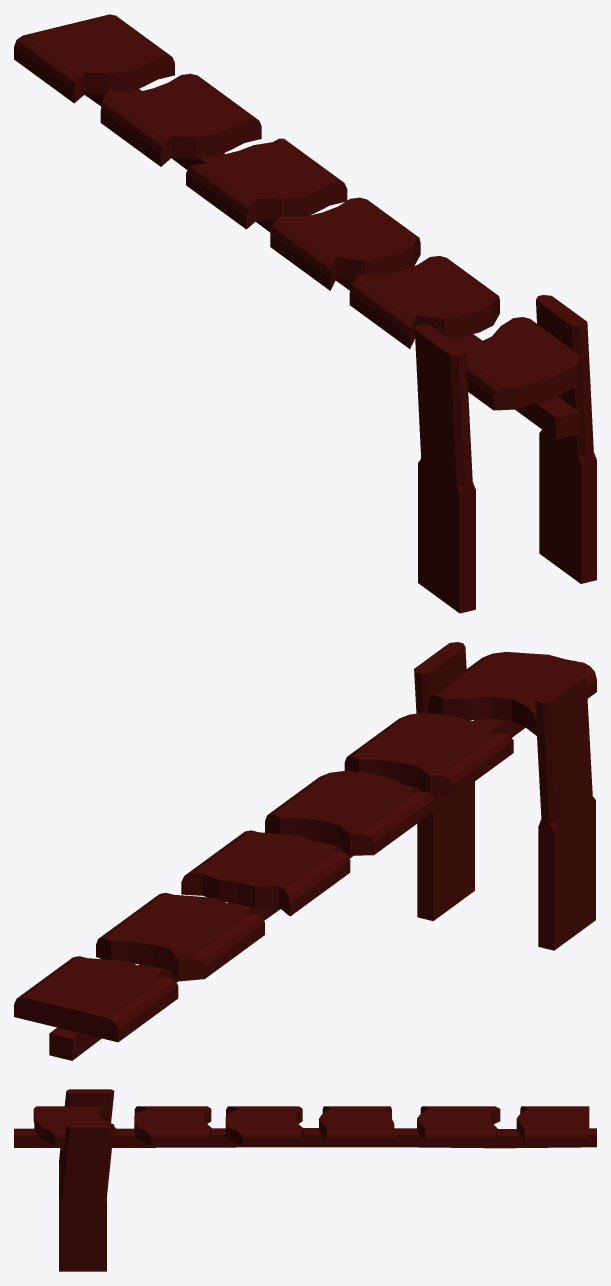
3 views of the same model, one above another, from view 1: azimuth 30°, elevation 25°; view 2: azimuth 150°, elevation 25°; view 3: azimuth 270°, elevation 25° (orthographic). The views are drawn at different scales.
Visible parts, largest first — view 1: Bridge_(Jembatan); view 2: Bridge_(Jembatan); view 3: Bridge_(Jembatan).
Boxes of the visible parts, x1,y1,x2,y2 form: Bridge_(Jembatan): (14, 14, 596, 613); Bridge_(Jembatan): (14, 642, 596, 1060); Bridge_(Jembatan): (14, 1089, 596, 1271).
Bounding box in the file's own units: 2.63 × 4.6 × 16.84.
